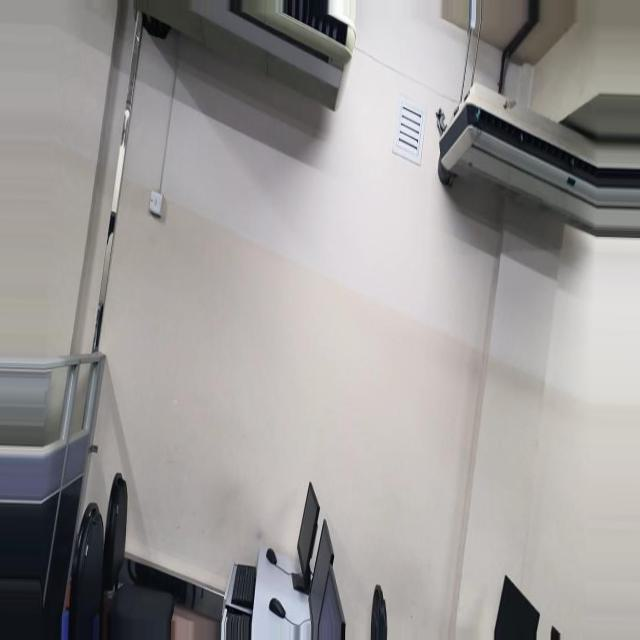Ac: (0, 68, 189, 222), (286, 0, 531, 101)
Chair: (482, 486, 569, 639), (566, 519, 604, 639)
Keyboard: (387, 577, 424, 631), (391, 620, 424, 639)
Monitor: (315, 490, 345, 606), (297, 527, 325, 639), (56, 580, 108, 639), (282, 564, 313, 639)
Mouse: (351, 612, 371, 632), (363, 559, 376, 577)
